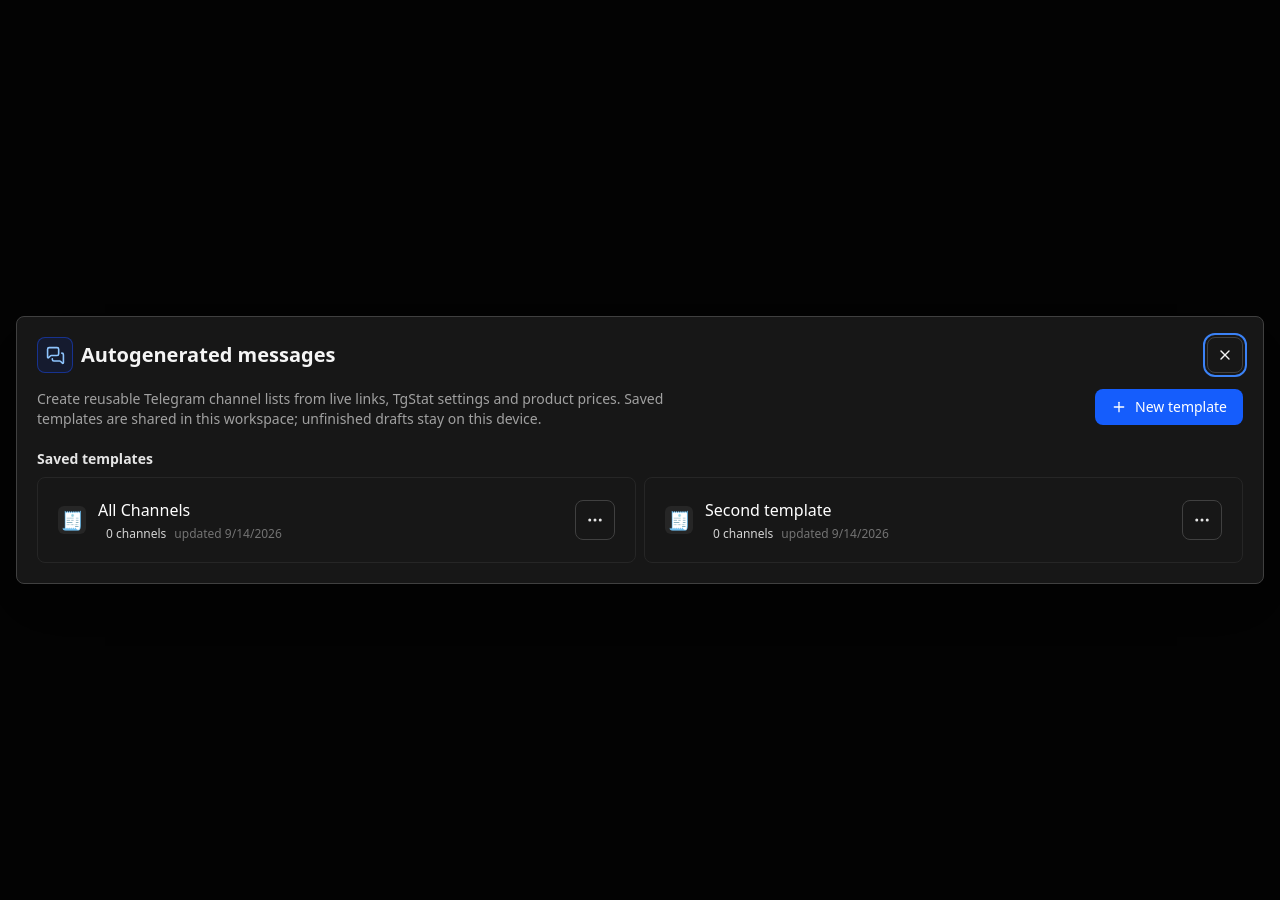
TelegramChannelMessageTemplatesModal › keeps only one template actions menu open
Click the button named "Template actions for All Channels" at (595, 520), box 575,500 -> 615,540
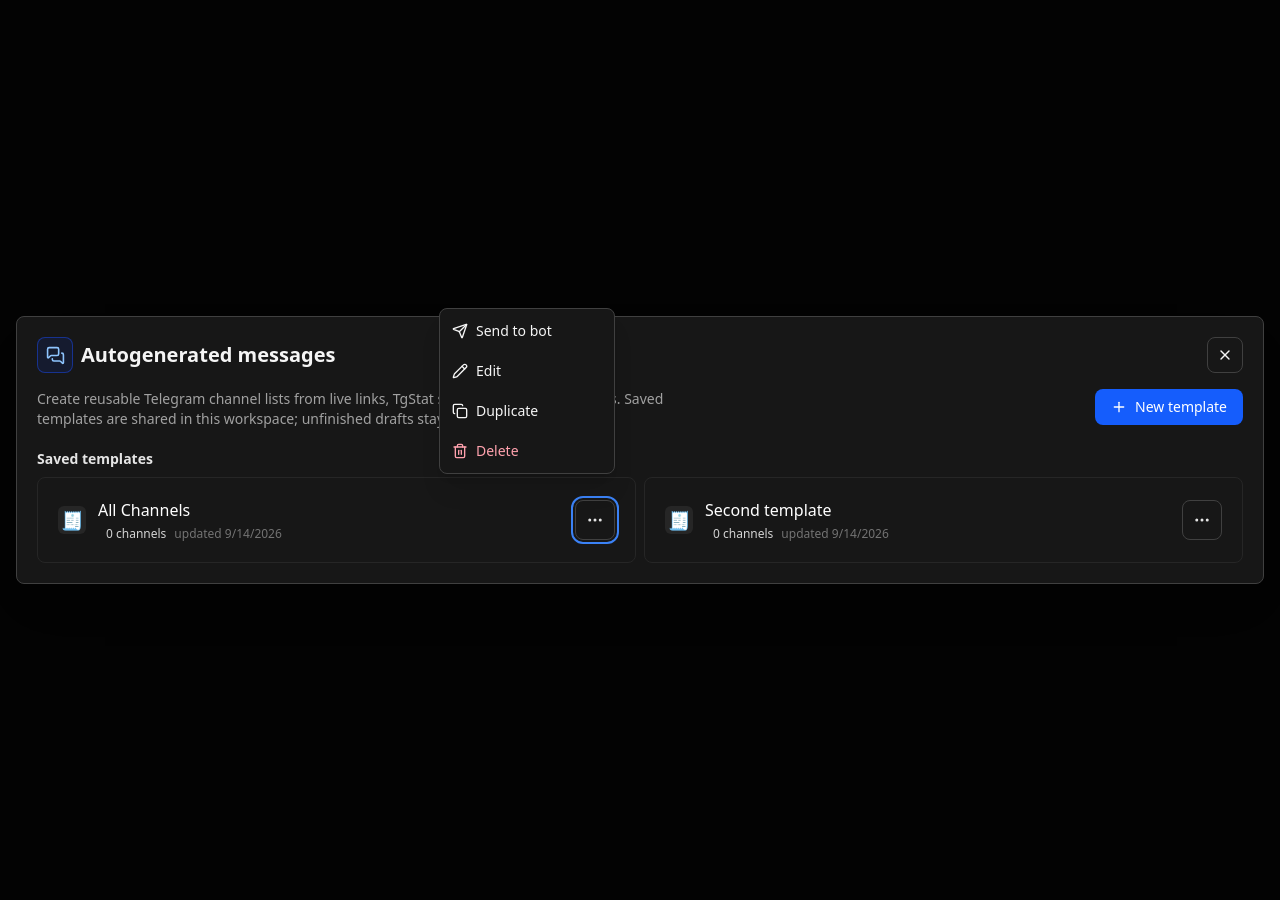
Check: the number of menus is 1, box 439,308 -> 615,474
Click the button named "Template actions for Second template" at (1202, 520), box 1182,500 -> 1222,540
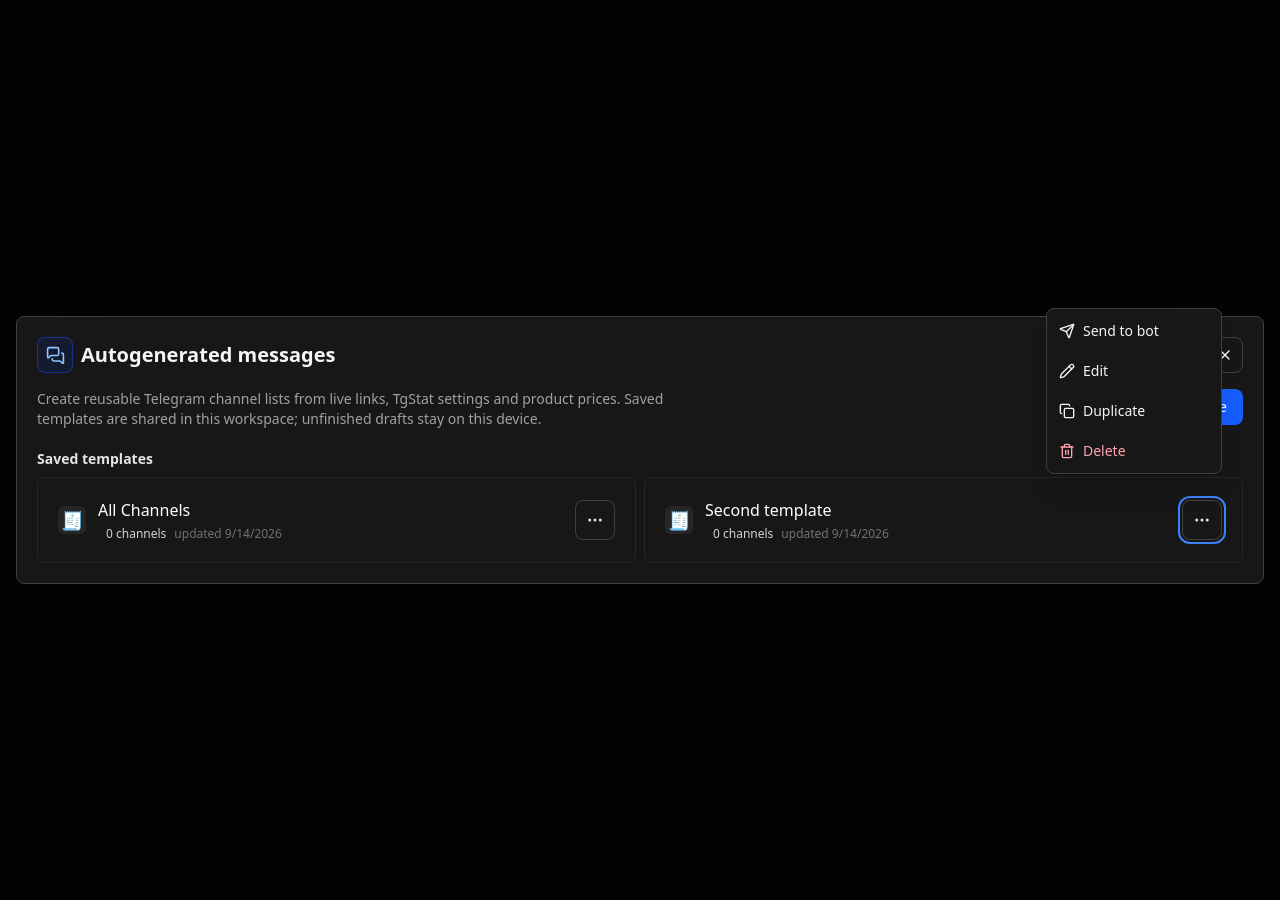
Check: the number of menus is 1, box 1046,308 -> 1222,474
Check: the menu item with aria-label "Send Second template to System Bot" is shown, box 1051,313 -> 1217,349
